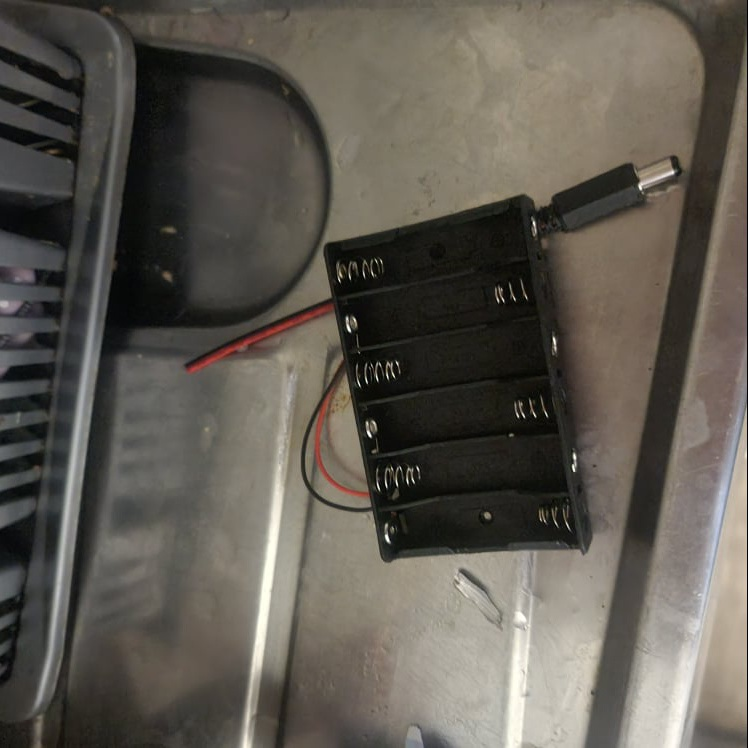BATTERY BOX: (323, 200, 593, 565)
